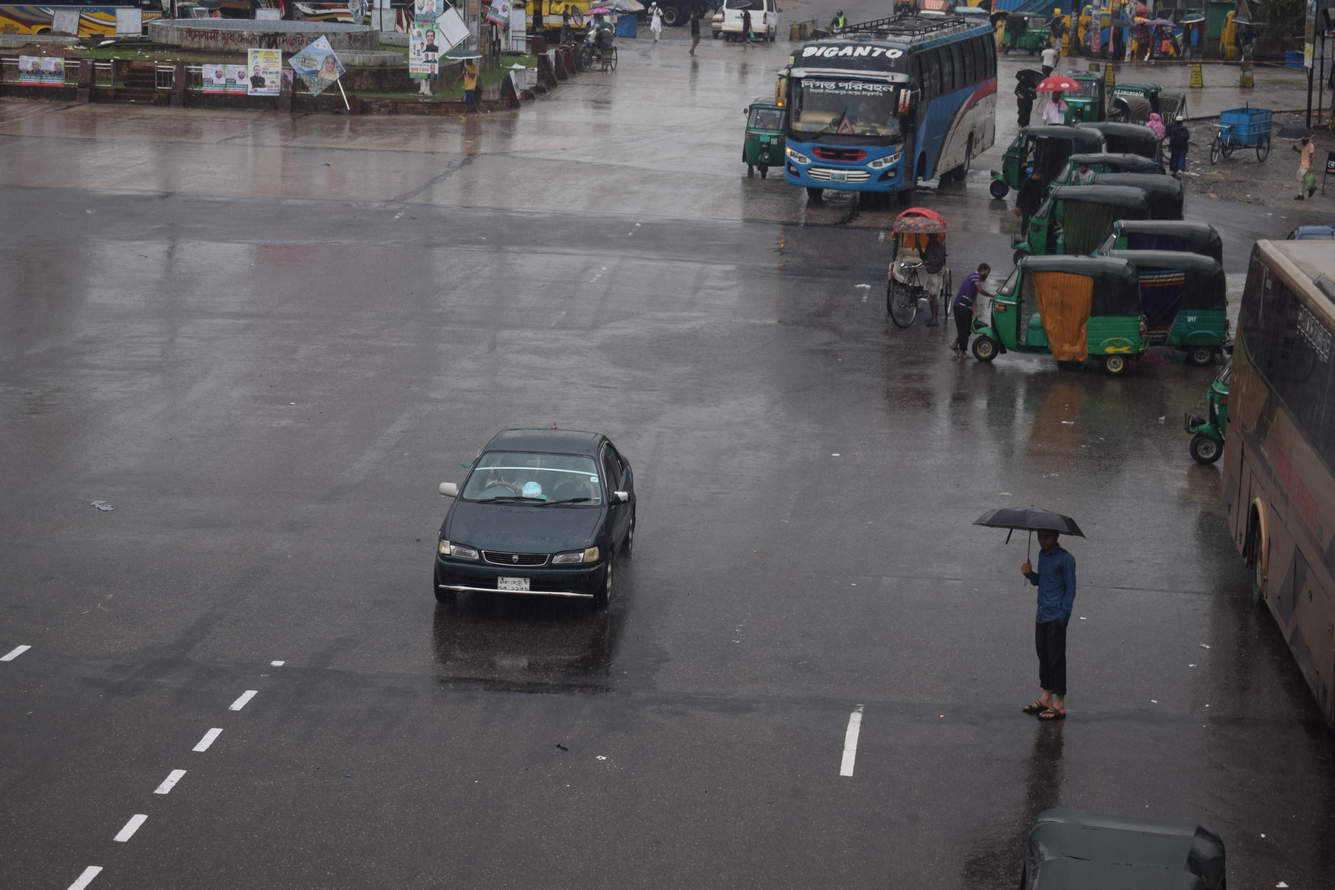Bus: (1199, 184, 1335, 755), (765, 10, 1022, 218)
Car: (399, 386, 683, 669), (850, 189, 976, 349), (702, 0, 786, 51)
